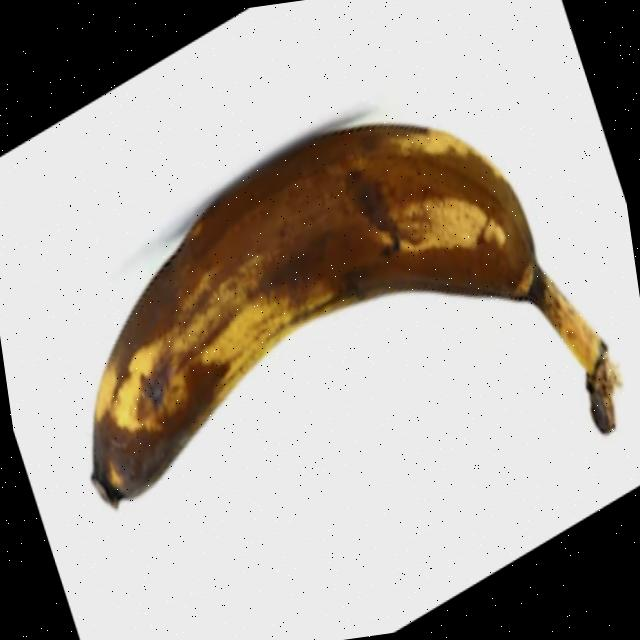overripe: (43, 96, 602, 513)
